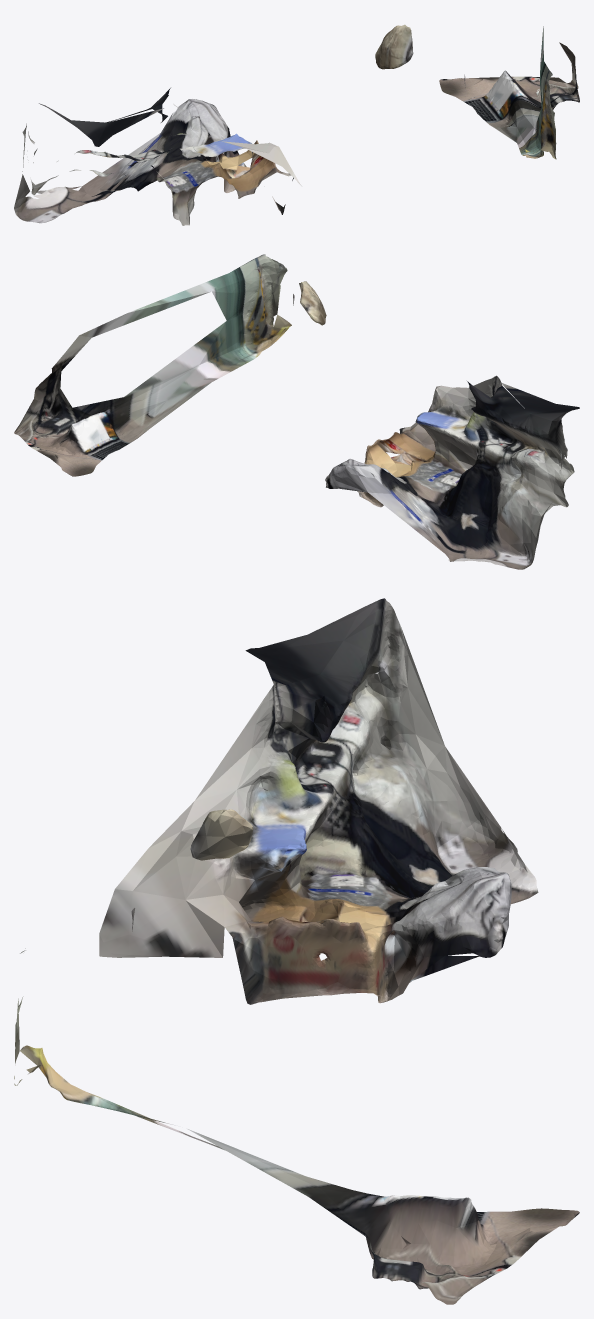
File: room_scan.glb
The picture shows the model from 3 angles, top to bottom: view 1: azimuth 30°, elevation 25°; view 2: azimuth 150°, elevation 25°; view 3: azimuth 270°, elevation 25°; orthographic projection. The views are drawn at different scales.
Visible parts, largest first — view 1: mesh; view 2: mesh; view 3: mesh.
Boxes of the visible parts, <box> form: mesh: <box>14,24,579,225</box>; mesh: <box>14,254,579,569</box>; mesh: <box>14,598,579,1304</box>.
Bounding box in the file's own units: 3.78 × 1.11 × 1.88.
Materials: 1 (1 with a texture image).
